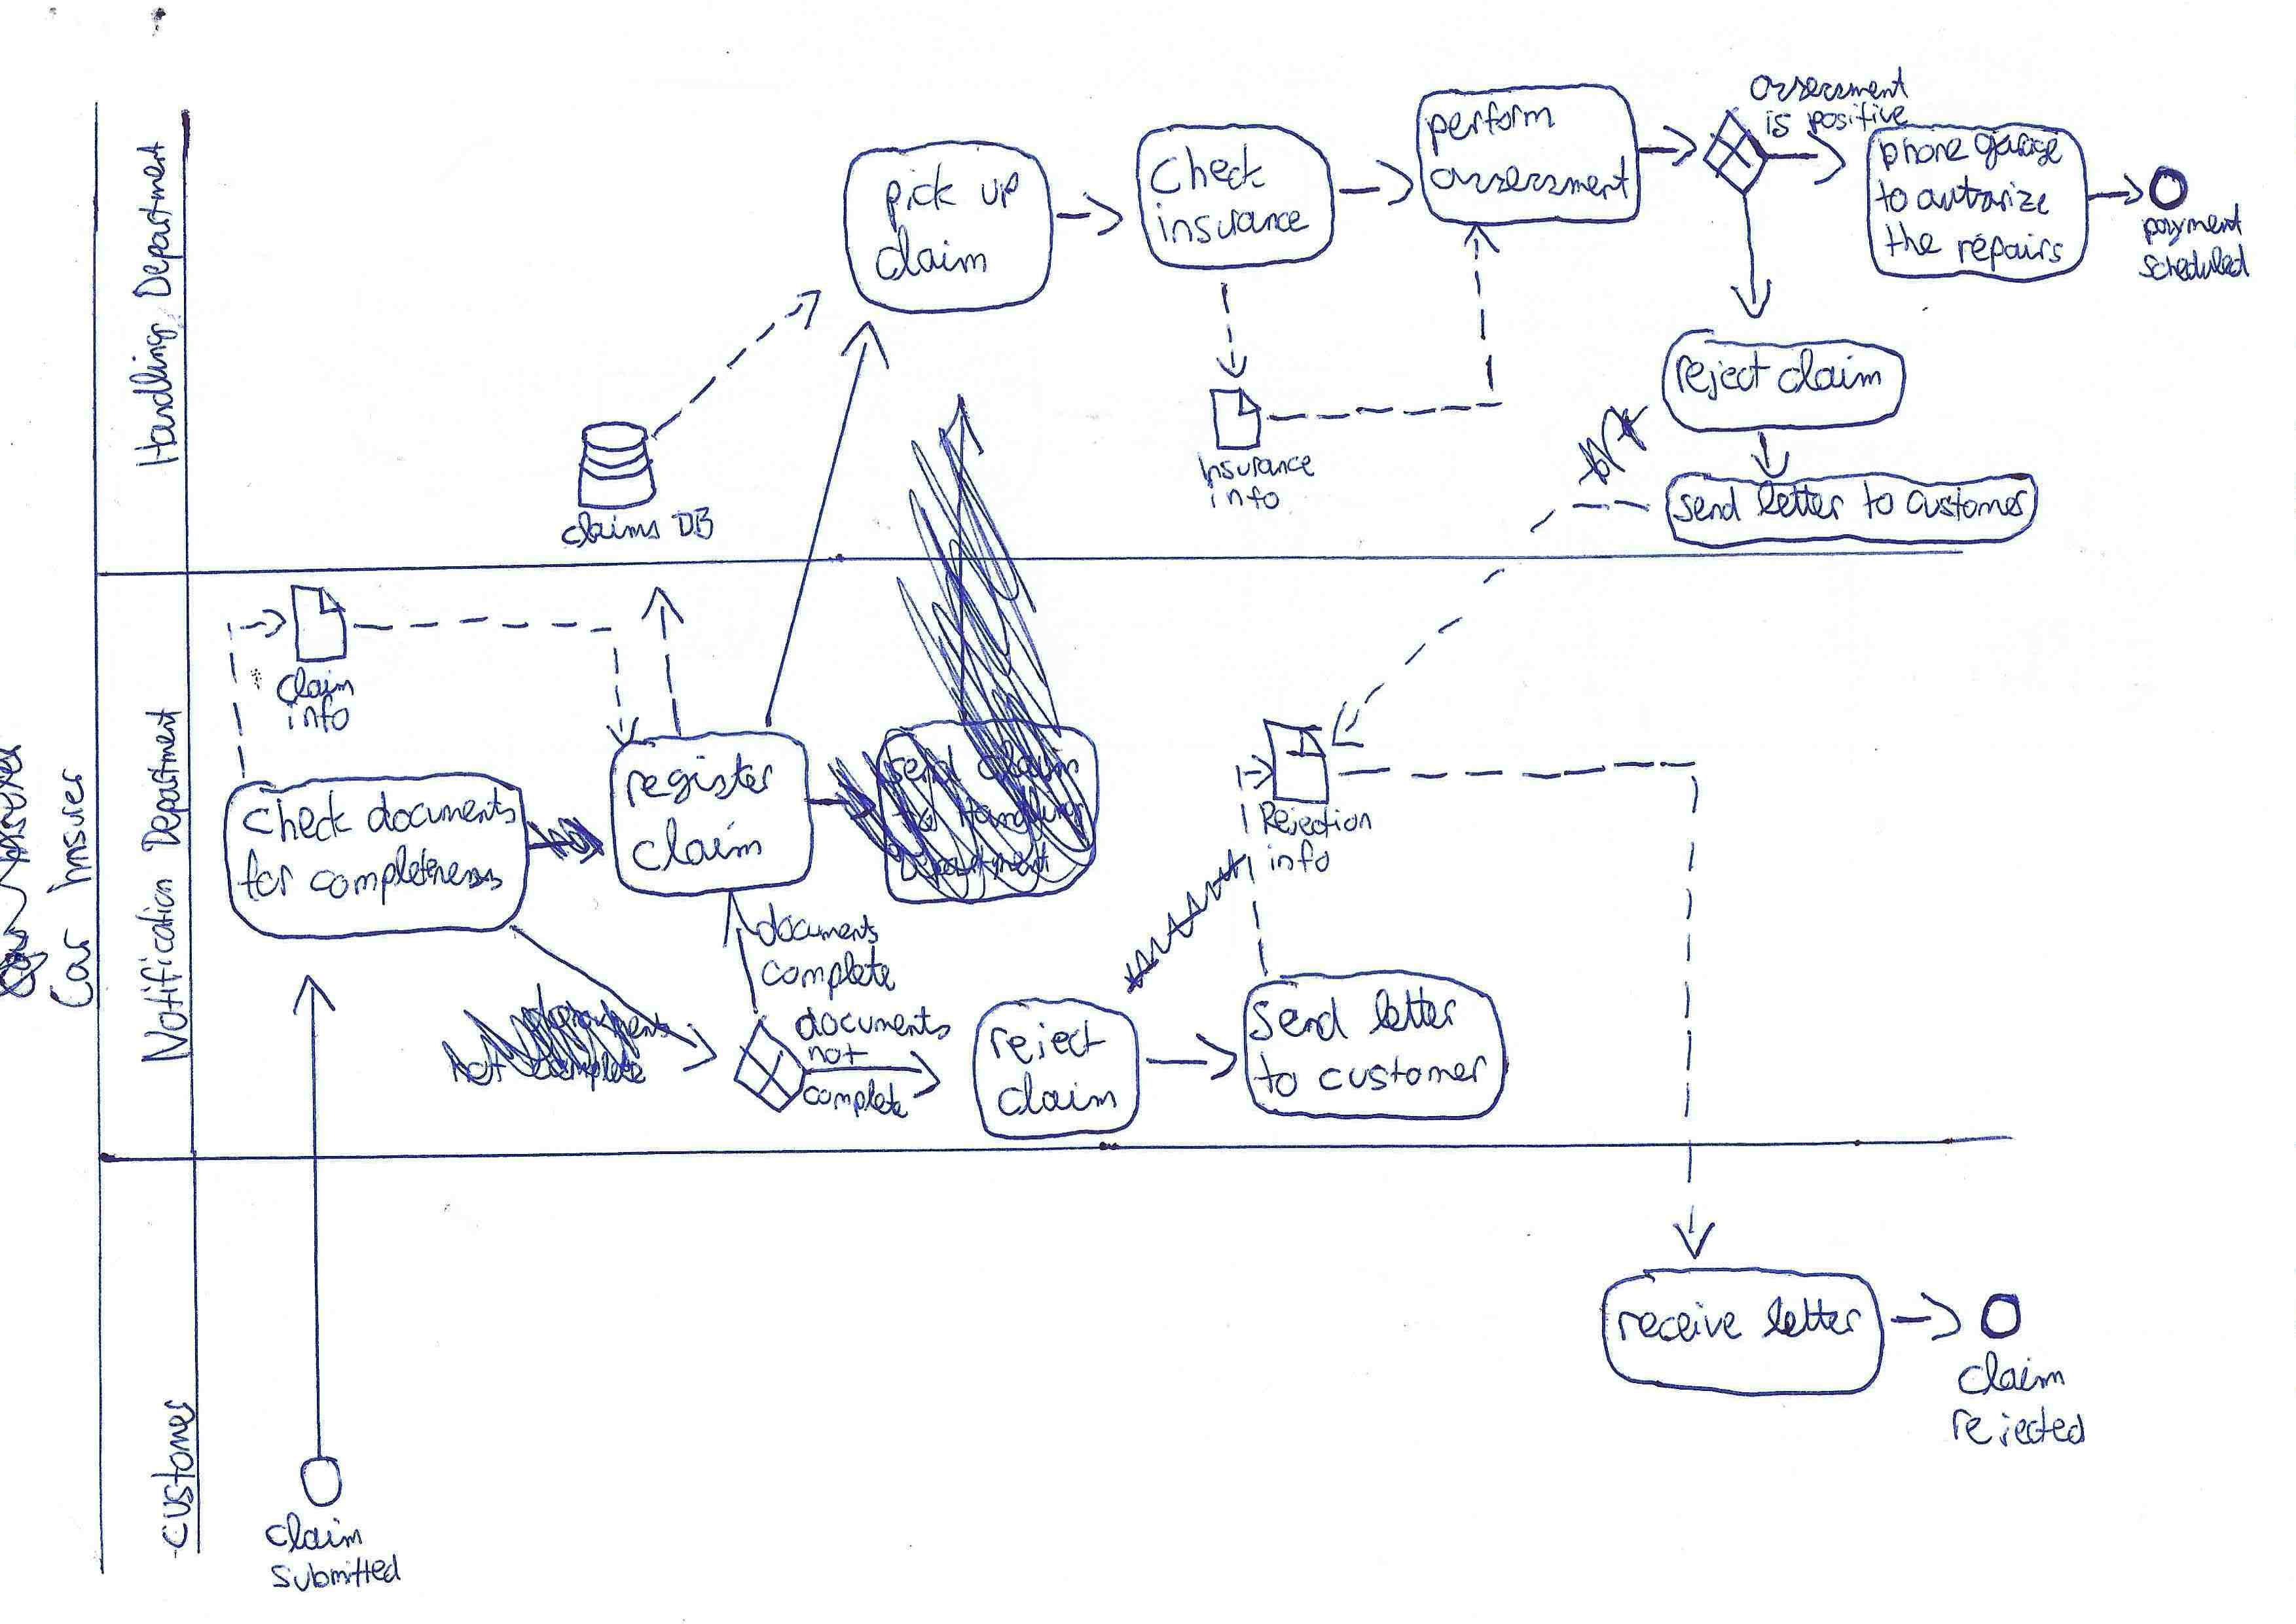Car: (42, 921, 100, 1014)
DB: (666, 503, 719, 545)
Department: (127, 135, 190, 304), (134, 703, 193, 858)
Handling: (121, 316, 185, 475)
Insurance: (1190, 448, 1322, 487)
Insurer: (40, 763, 98, 900)
Notification: (128, 874, 197, 1067)
Rejection: (1253, 796, 1378, 844)
assessment: (1424, 148, 1637, 207), (1744, 60, 1915, 107)
autorize: (1911, 170, 2055, 221)
check: (1144, 137, 1273, 200), (236, 784, 359, 847)
claim: (626, 810, 767, 879), (870, 220, 993, 286), (992, 1065, 1123, 1123), (1772, 343, 1888, 401), (1951, 1345, 2071, 1401), (258, 1508, 369, 1561), (271, 663, 359, 710)
claims: (557, 506, 666, 554)
complete: (756, 939, 900, 1005), (798, 1074, 914, 1125)
completeness: (304, 840, 508, 910)
customer: (146, 1394, 202, 1554), (1311, 1048, 1494, 1097), (1900, 480, 2034, 529)
documents: (362, 782, 522, 842), (789, 1000, 956, 1046), (749, 898, 886, 953)
for: (232, 844, 299, 907)
garage: (1969, 127, 2069, 178)
info: (281, 689, 355, 738), (1262, 833, 1334, 879), (1202, 478, 1287, 517)
insurance: (1152, 197, 1315, 251)
is: (1758, 105, 1798, 146)
letter: (1755, 1290, 1867, 1346), (1362, 981, 1463, 1042), (1749, 475, 1849, 527)
not: (803, 1037, 872, 1070)
payment: (2134, 197, 2247, 251)
perform: (1422, 95, 1561, 163)
phone: (1874, 132, 1974, 176)
pick: (879, 156, 963, 239)
positive: (1804, 97, 1915, 141)
receive: (1612, 1295, 1747, 1348)
register: (621, 747, 779, 814)
reject: (983, 1016, 1111, 1070), (1670, 343, 1777, 408)
rejected: (1946, 1399, 2090, 1454)
repairs: (1950, 227, 2071, 278)
scheduled: (2133, 237, 2256, 286)
send: (1245, 991, 1352, 1048), (1667, 480, 1747, 529)
submitted: (264, 1548, 406, 1598)
the: (1878, 218, 1948, 262)
to: (1248, 1046, 1303, 1104), (1855, 475, 1900, 526), (1871, 174, 1915, 220)
up: (976, 167, 1025, 218)
